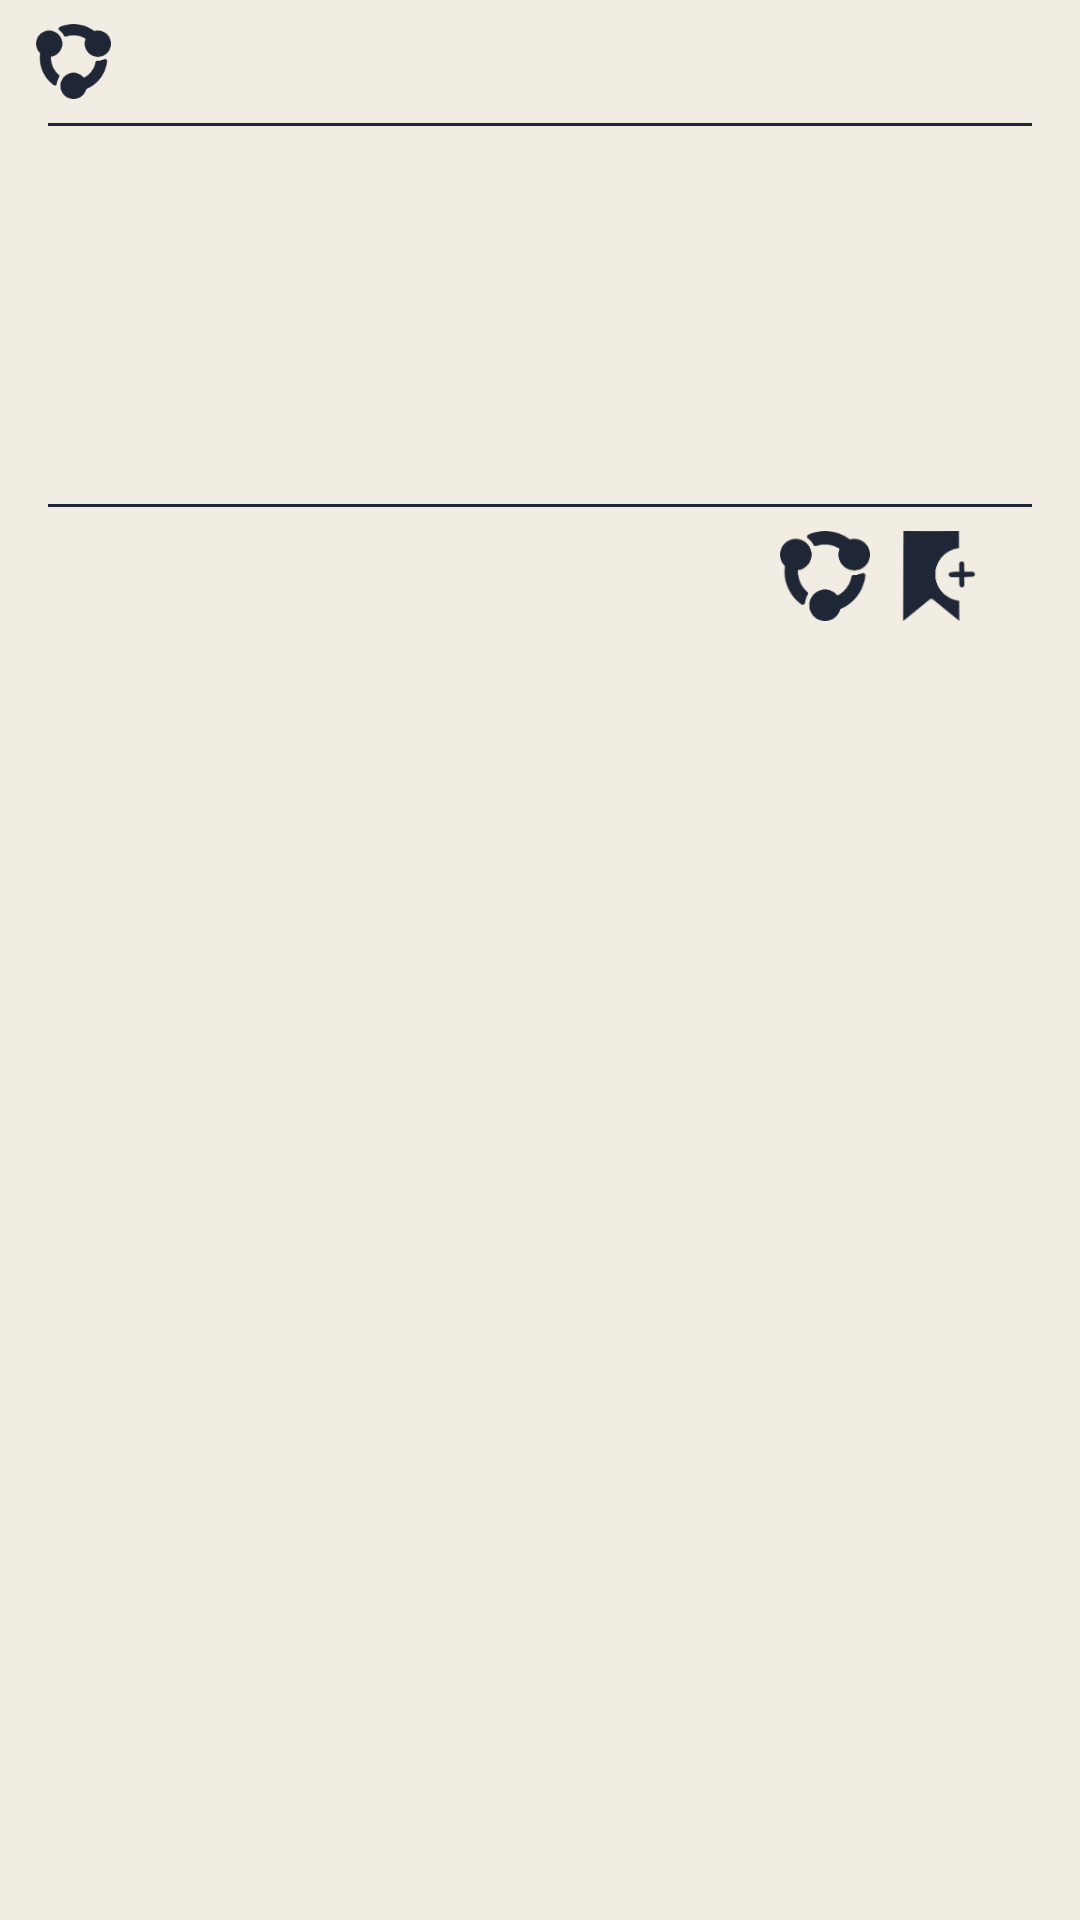

Icon click points for this 1080*1920 phone screenshot, format point (x, y):
Bookmark Post: point (939, 576)
Reblog Post: point (825, 576)
